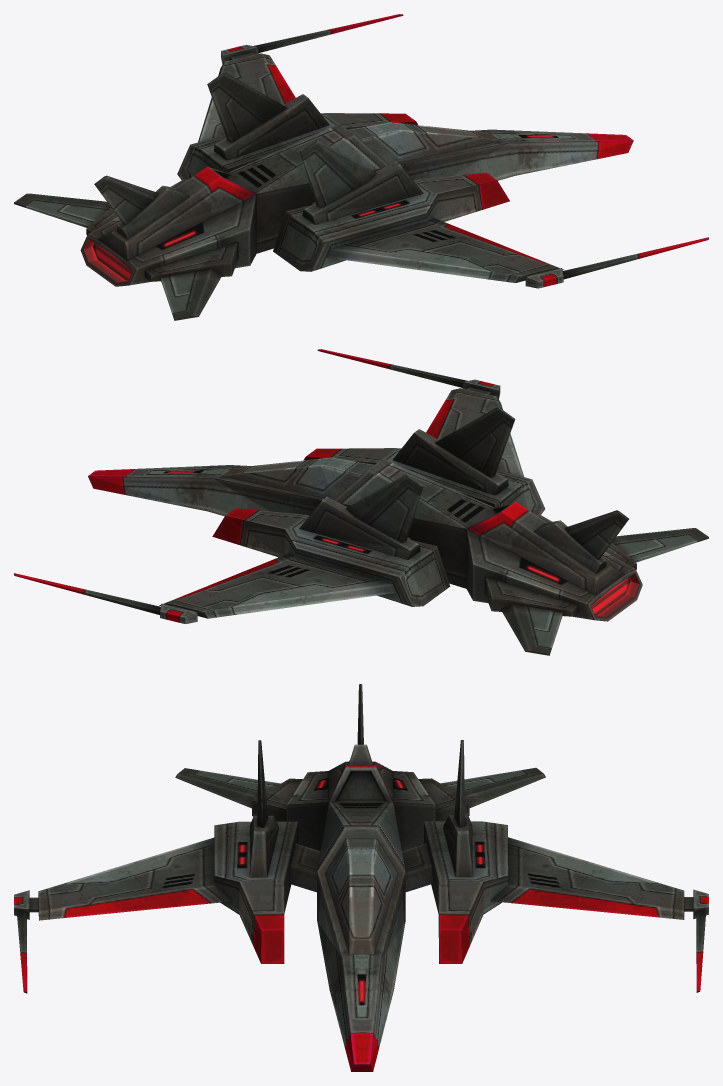
File: fighter_m1.FBX
3 views of the same model, one above another, from view 1: azimuth 30°, elevation 25°; view 2: azimuth 150°, elevation 25°; view 3: azimuth 270°, elevation 25° (orthographic). The views are drawn at different scales.
Parts seen in each view (by area): view 1: dark_fight; view 2: dark_fight; view 3: dark_fight.
Boxes of the visible parts, x1,y1,x2,y2 form: dark_fight: [14, 14, 708, 320]; dark_fight: [14, 349, 708, 655]; dark_fight: [14, 684, 708, 1071].
Size of the model in its own units: 89.54 by 20.7 by 91.37.
1 material, 1 textured.
